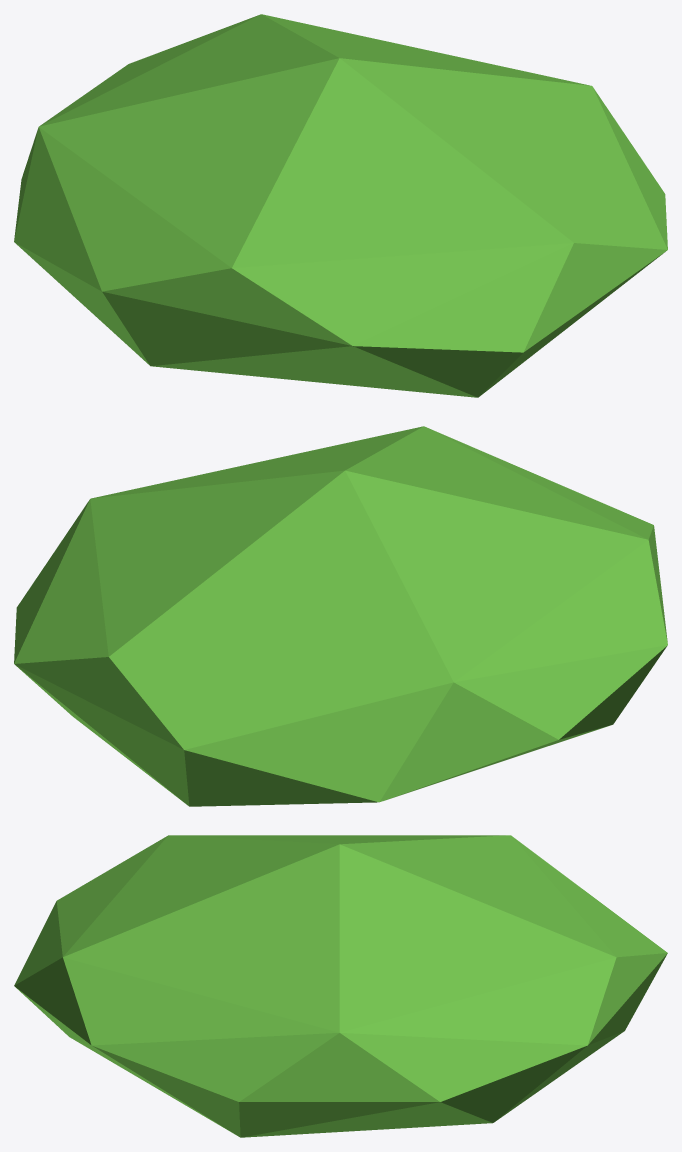
Rendered from Bush_Flat.fbx.
3 renders of one model, top to bottom at view 1: azimuth 30°, elevation 25°; view 2: azimuth 150°, elevation 25°; view 3: azimuth 270°, elevation 25°, orthographic. The views are drawn at different scales.
Parts seen in each view (by area): view 1: Bush_Flat; view 2: Bush_Flat; view 3: Bush_Flat.
Boxes of the visible parts, bbox=[...] form: Bush_Flat: bbox=[14, 14, 667, 397]; Bush_Flat: bbox=[14, 426, 667, 806]; Bush_Flat: bbox=[14, 835, 667, 1137].
Size of the model in its own units: 106 by 44.25 by 123.
